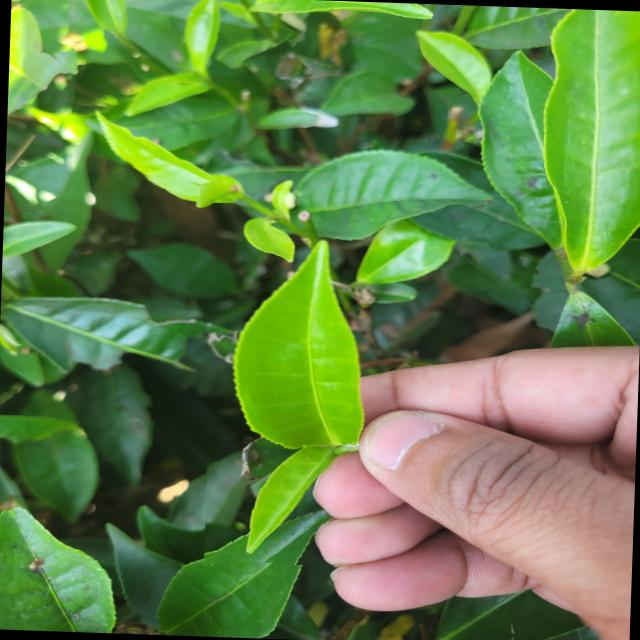Catagory A(1-2 days): (203, 430, 353, 567)
